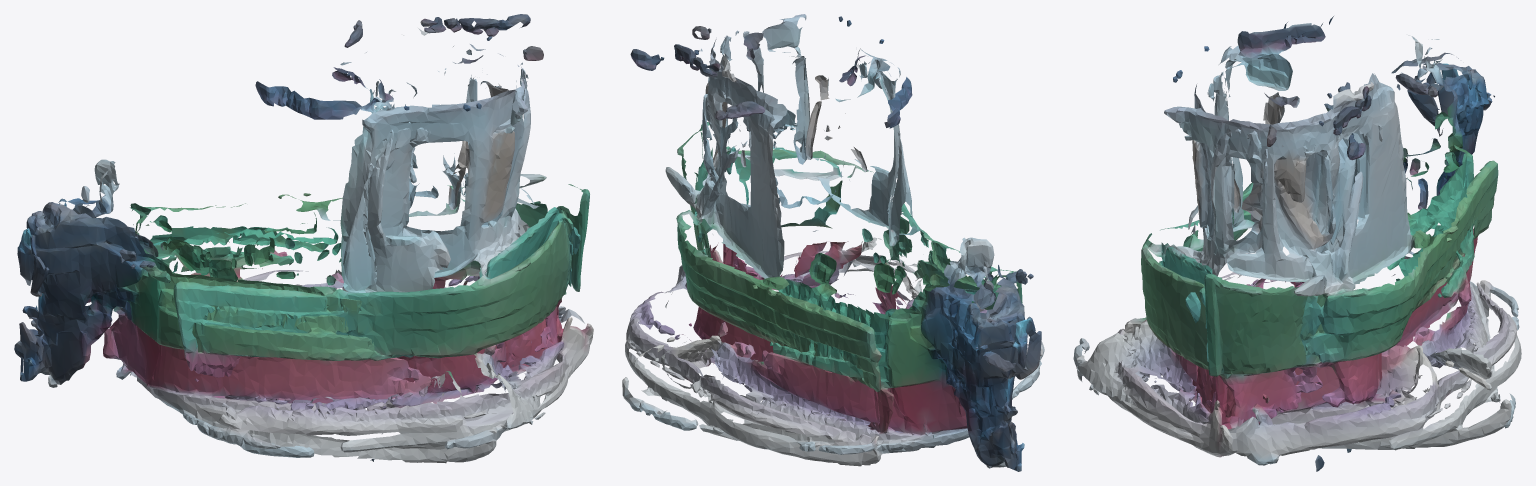
File: finished_model_20260520_105022.glb
3 renders of one model, left to right at view 1: azimuth 30°, elevation 25°; view 2: azimuth 150°, elevation 25°; view 3: azimuth 270°, elevation 25°, orthographic. The views are drawn at different scales.
Parts seen in each view (by area): view 1: finished_model_20260520_105022.ply; view 2: finished_model_20260520_105022.ply; view 3: finished_model_20260520_105022.ply.
Part boxes in pixels (box(x1,y1,x2,y2)): finished_model_20260520_105022.ply: box(14, 14, 593, 463); finished_model_20260520_105022.ply: box(622, 14, 1044, 471); finished_model_20260520_105022.ply: box(1073, 16, 1521, 471).
Bounding box in the file's own units: 0.1757 × 0.146 × 0.1399.
